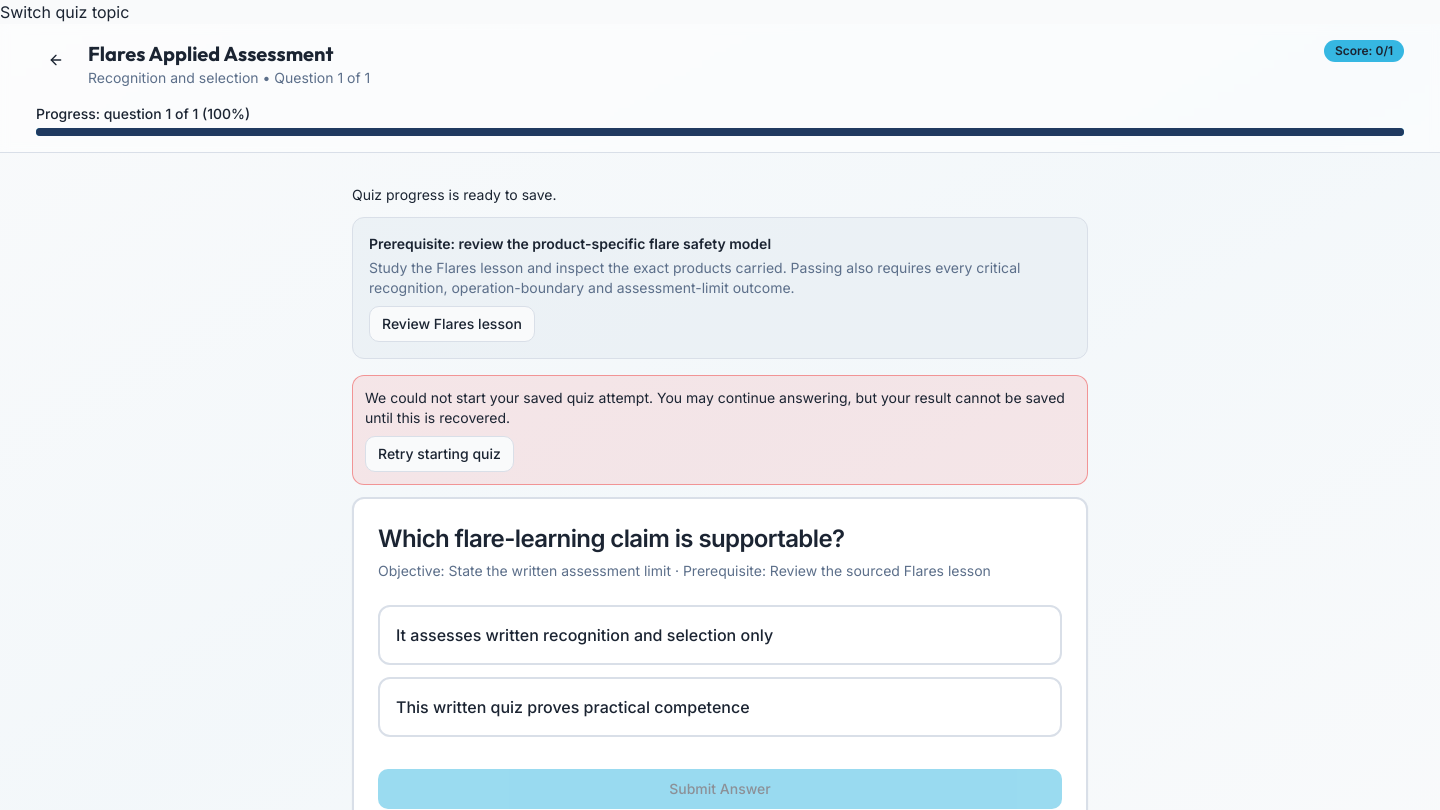
Test: Quiz accessible interaction and reflow › releases corrected flare questions under the waiver without claiming practitioner approval
The image size is (1440, 810).
Expected: the text "Which flare-learning claim is supportable?" is shown, [378, 524, 844, 553]
Expected: the text "Prerequisite: Review the sourced Flares lesson" is shown, [378, 561, 1062, 581]
Click the radio button labelled "It assesses written recognition and selection only": coordinates (720, 635) [378, 605, 1062, 665]
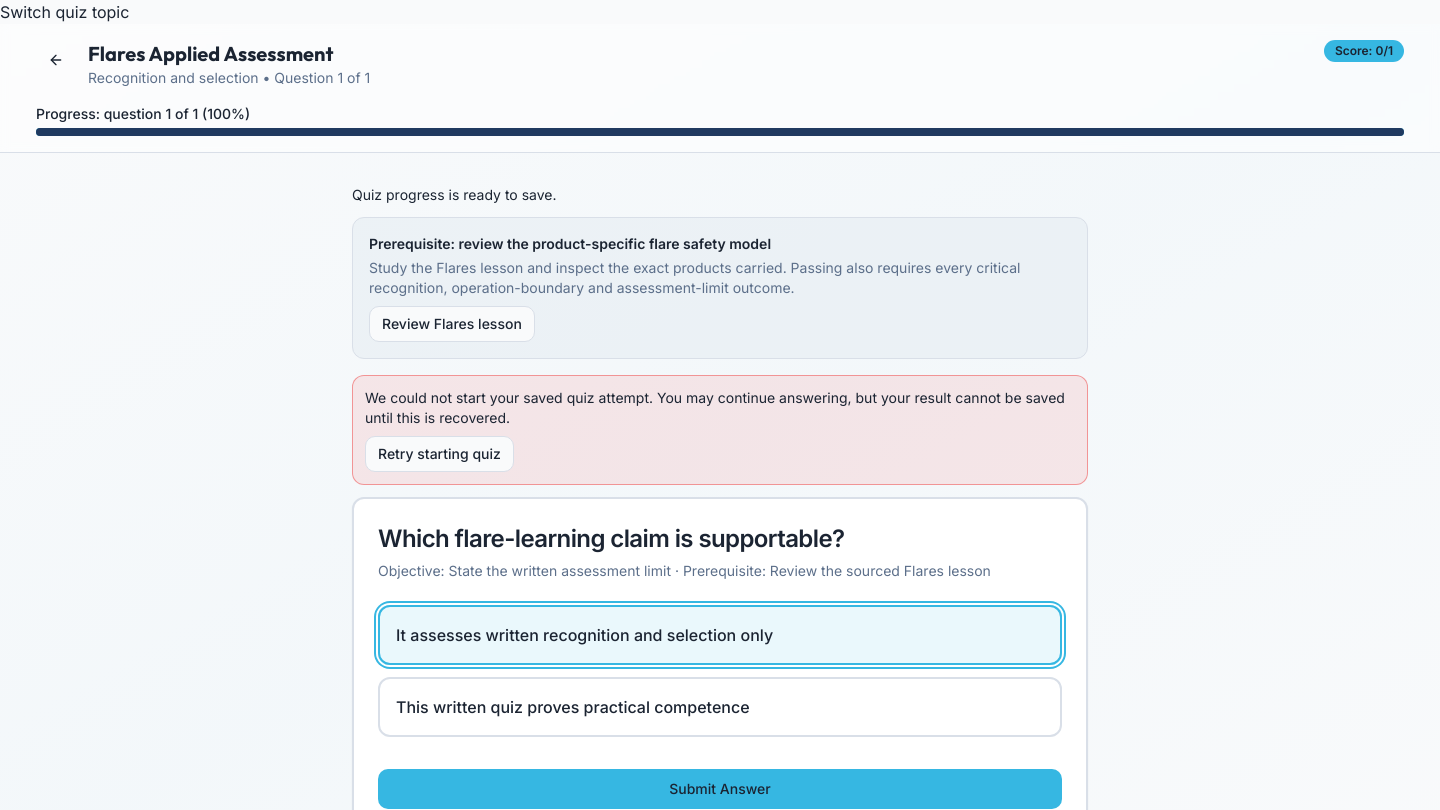
Click the button "Submit Answer": coordinates (720, 789) [378, 769, 1062, 809]
(page scrolled)
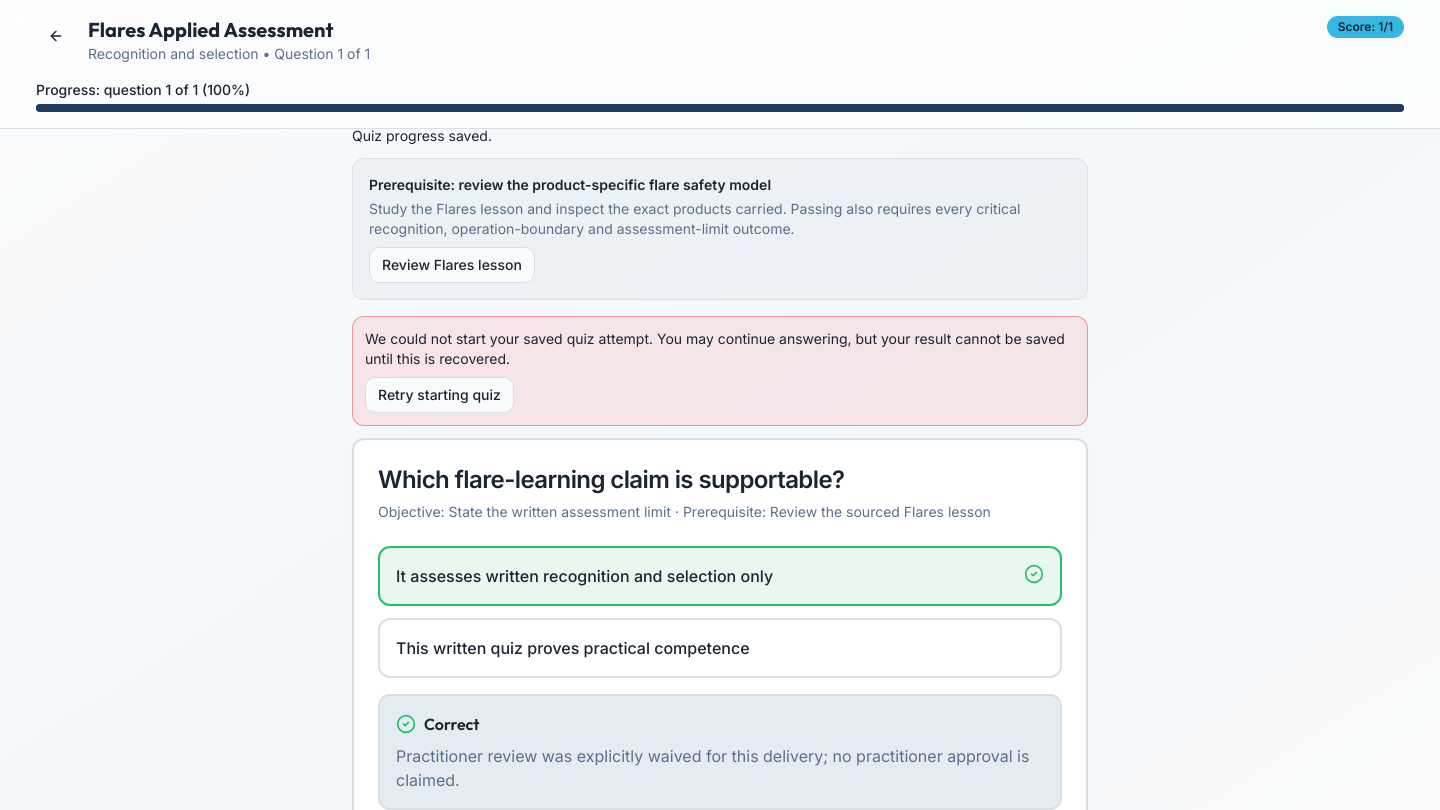
Now the text "no practitioner approval is claimed" is shown, box [396, 746, 1029, 790]
